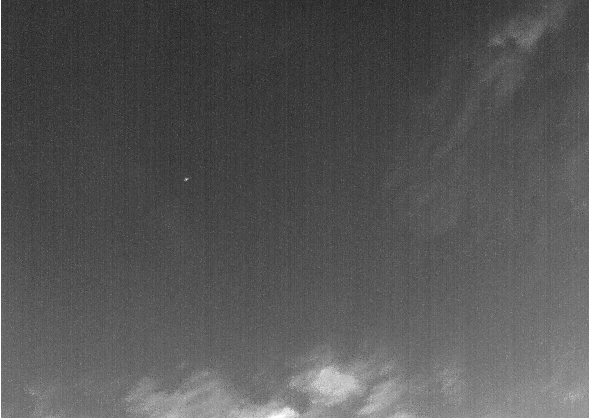dim target: (183, 177, 189, 182)
